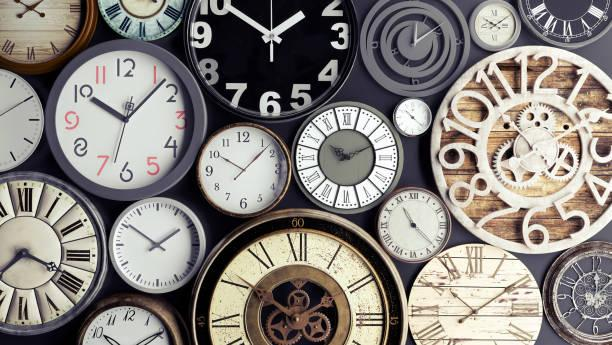clock: (437, 45, 612, 248), (196, 215, 407, 345), (44, 43, 206, 198), (187, 0, 364, 120), (0, 183, 110, 345), (408, 245, 544, 345), (291, 103, 405, 218), (354, 0, 473, 102), (113, 195, 210, 299), (195, 120, 292, 213), (0, 0, 99, 77), (543, 244, 612, 345), (0, 63, 44, 185), (378, 184, 448, 260), (78, 298, 183, 345), (522, 0, 612, 49), (90, 0, 193, 36), (470, 0, 521, 55), (392, 99, 436, 142)
